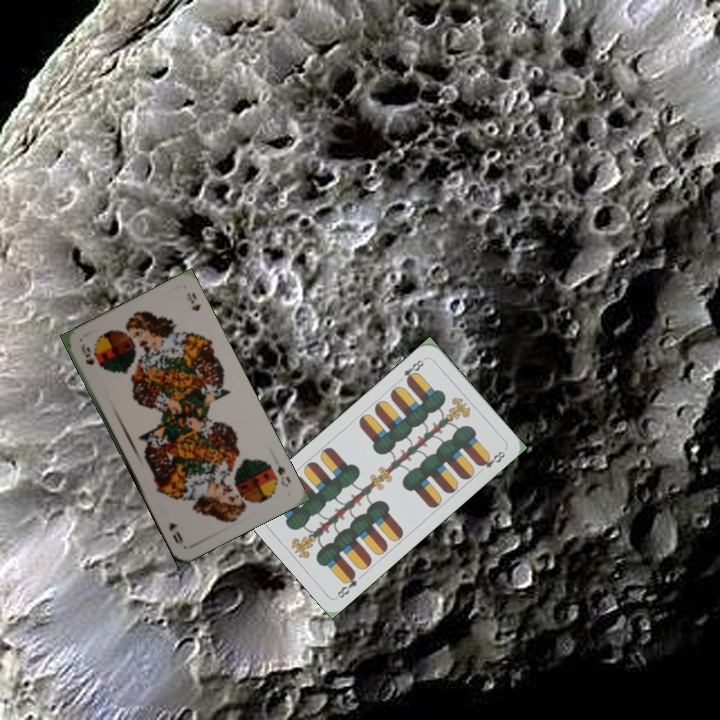E8: (394, 354, 428, 386), (333, 568, 360, 601)
SO: (273, 462, 294, 490), (77, 340, 97, 368)
